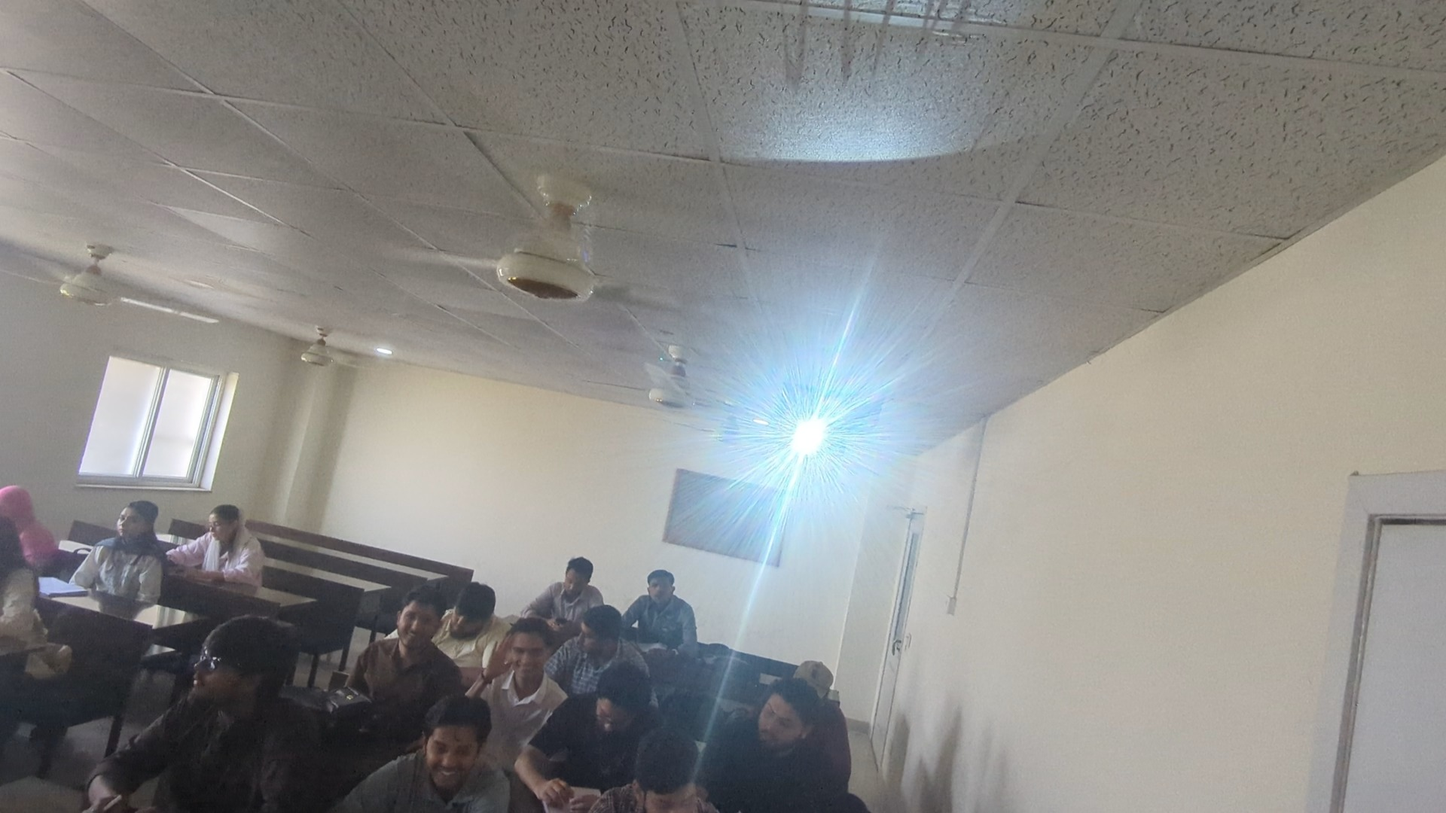look_forward: (81, 495, 188, 620), (378, 555, 455, 702), (753, 663, 830, 788), (195, 629, 284, 734), (499, 609, 571, 720), (419, 710, 501, 801), (634, 560, 699, 653)
sleep: (196, 489, 283, 583), (441, 579, 505, 683)
turn_head: (576, 598, 629, 694)
using_device: (543, 548, 602, 633)
write: (539, 666, 660, 811)
